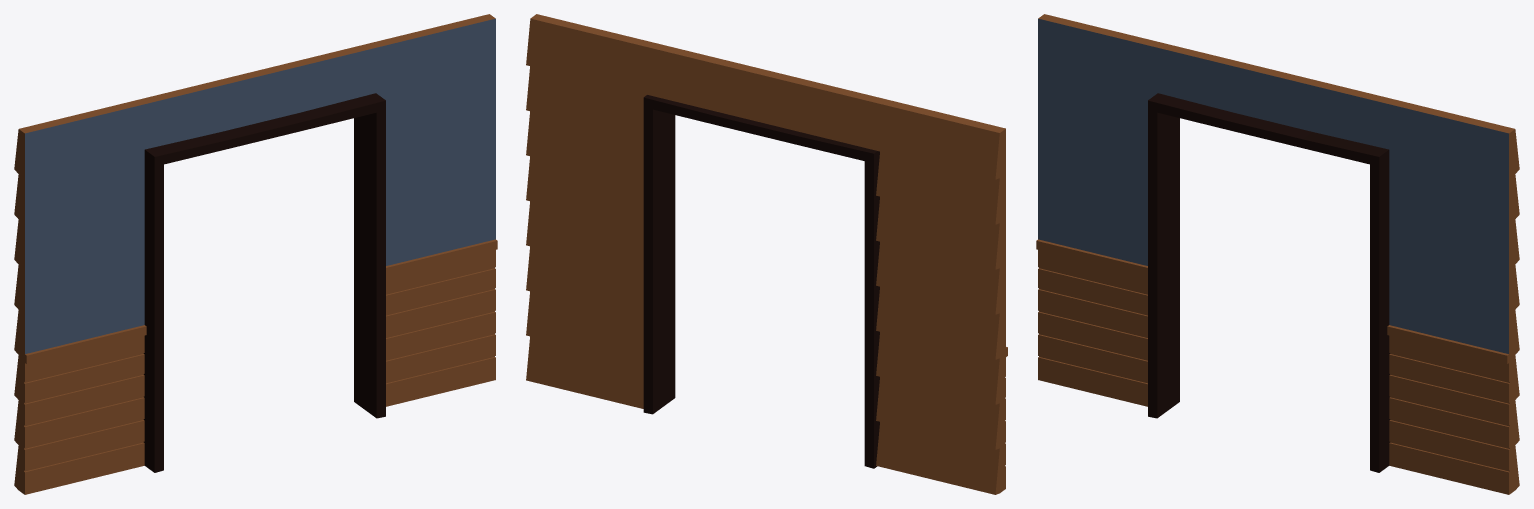
File: ww_saloon_door_c.glb
3 views of the same model, side by side, from view 1: azimuth 30°, elevation 25°; view 2: azimuth 150°, elevation 25°; view 3: azimuth 330°, elevation 25° (orthographic).
Parts seen in each view (by area): view 1: Saloon_Door_C001; view 2: Saloon_Door_C001; view 3: Saloon_Door_C001.
Part boxes in pixels (<box>): Saloon_Door_C001: <box>14,14,497,494</box>; Saloon_Door_C001: <box>526,14,1007,494</box>; Saloon_Door_C001: <box>1036,14,1519,494</box>.
Bounding box in the file's own units: 4.8 × 3.52 × 0.4002.
